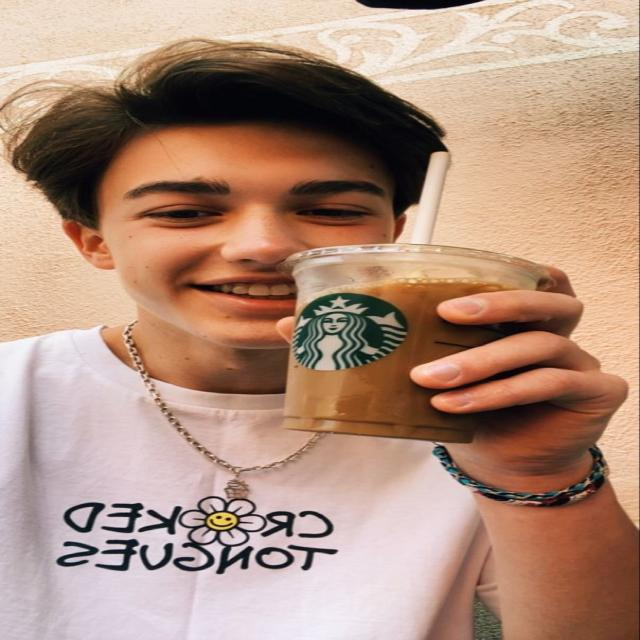starbucks: (296, 292, 406, 370)
